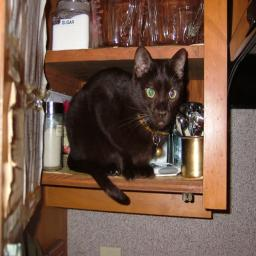catnose: (154, 103, 168, 119)
